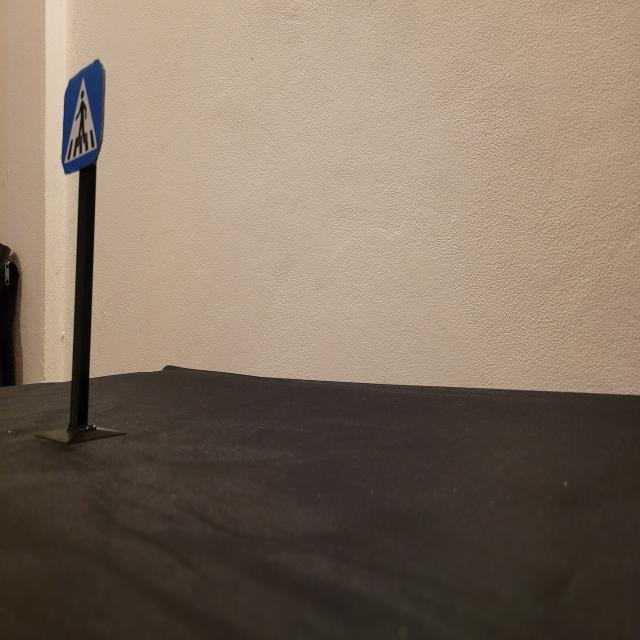crosswalk: (58, 59, 108, 175)
